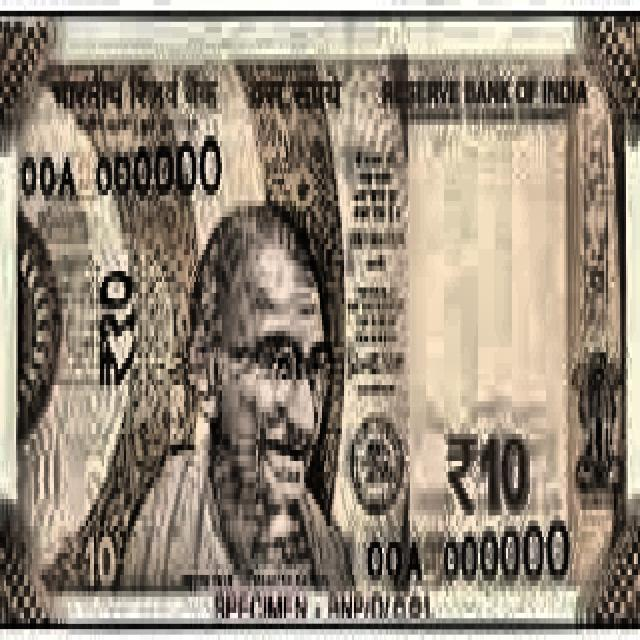-10-: (2, 17, 640, 581)
